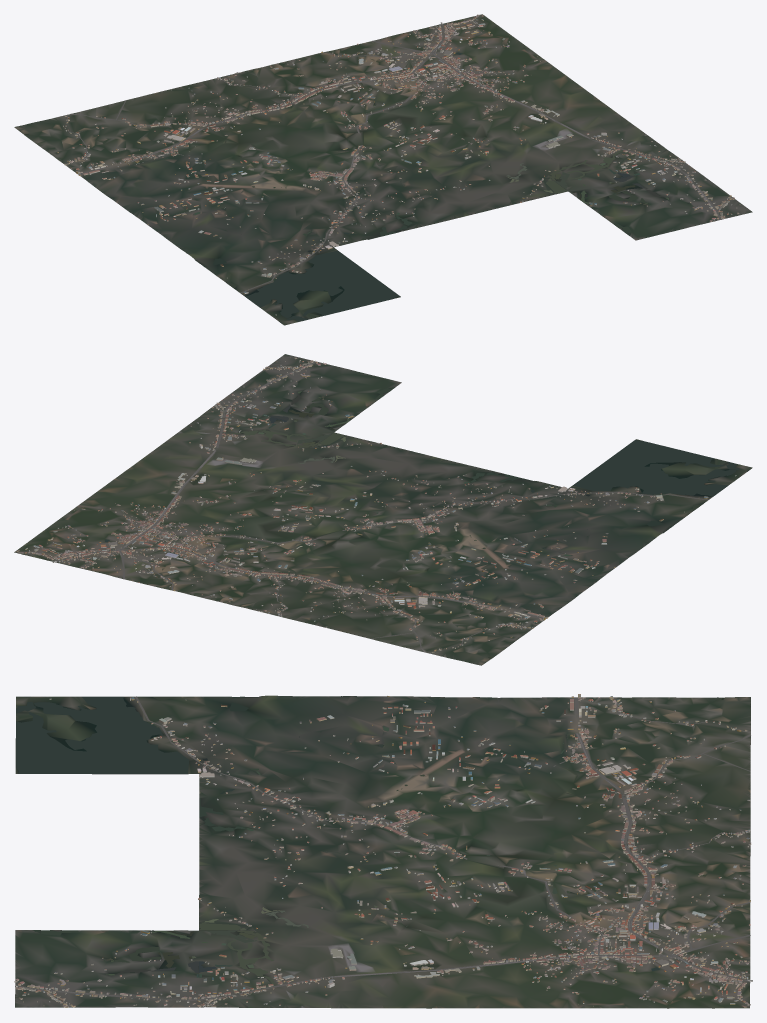
3 renders of one model, top to bottom at view 1: azimuth 30°, elevation 25°; view 2: azimuth 150°, elevation 25°; view 3: azimuth 270°, elevation 25°, orthographic. The views are drawn at different scales.
Parts seen in each view (by area): view 1: ground, buildings, water, roads; view 2: ground, buildings, water, roads; view 3: ground, buildings, water, roads.
Boxes of the visible parts, <box> form: ground: <box>14,14,752,325</box>; buildings: <box>57,14,741,315</box>; water: <box>25,25,697,323</box>; roads: <box>66,24,731,293</box>; ground: <box>14,354,752,665</box>; buildings: <box>16,357,736,652</box>; water: <box>31,374,749,658</box>; roads: <box>55,361,708,653</box>; ground: <box>15,695,750,1008</box>; buildings: <box>14,694,752,1007</box>; water: <box>16,696,724,1007</box>; roads: <box>15,696,750,1007</box>.
Bounding box in the file's own units: 5609 × 43.02 × 5638.
